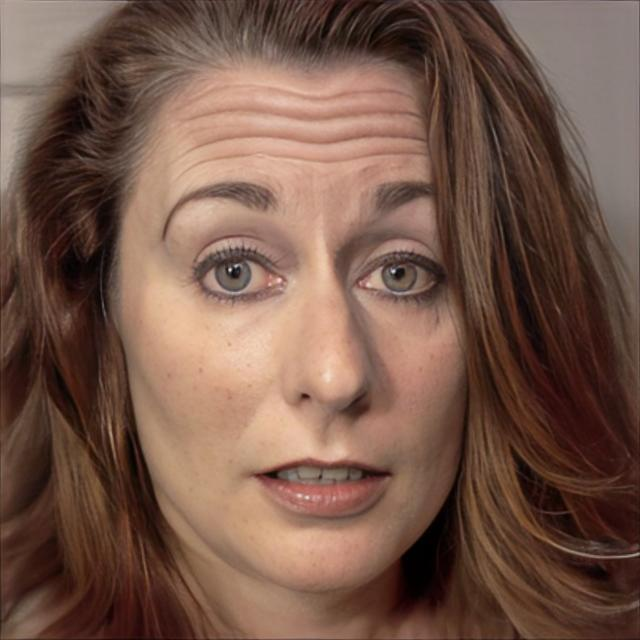surprise: (114, 38, 474, 598)
